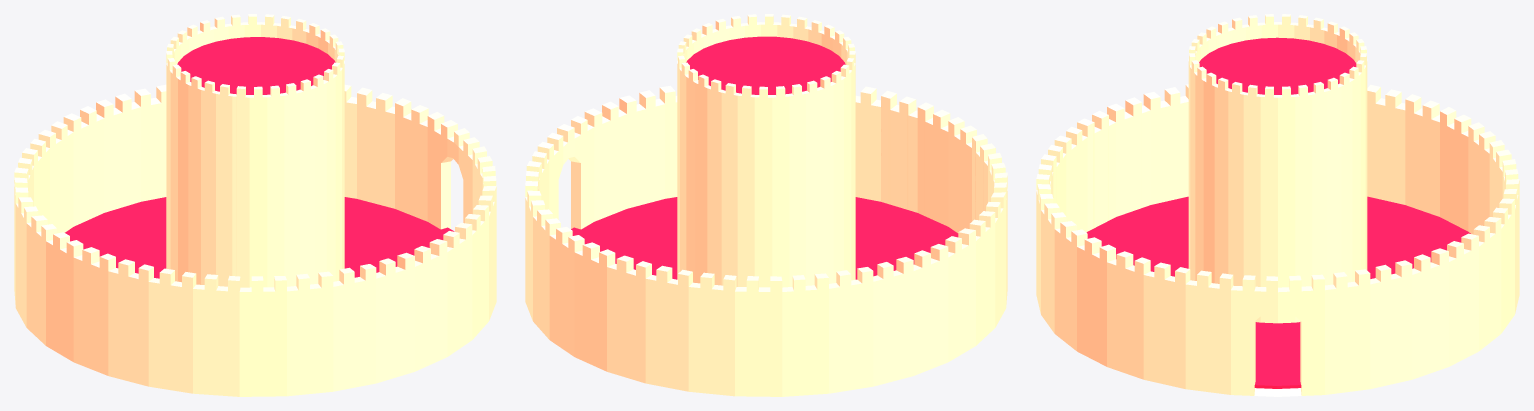
Rendered from castle1.gltf.
3 renders of one model, left to right at view 1: azimuth 30°, elevation 25°; view 2: azimuth 150°, elevation 25°; view 3: azimuth 270°, elevation 25°, orthographic.
Parts seen in each view (by area): view 1: Cylinder, Cylinder.002; view 2: Cylinder, Cylinder.002; view 3: Cylinder, Cylinder.002.
Boxes of the visible parts, x1,y1,x2,y2 form: Cylinder: (14, 14, 496, 396); Cylinder.002: (65, 37, 454, 278); Cylinder: (525, 14, 1007, 396); Cylinder.002: (571, 36, 958, 279); Cylinder: (1036, 14, 1519, 396); Cylinder.002: (1086, 37, 1470, 388).
Bounding box in the file's own units: 2 × 1.11 × 2.
Materials: 2 (2 with a texture image).
